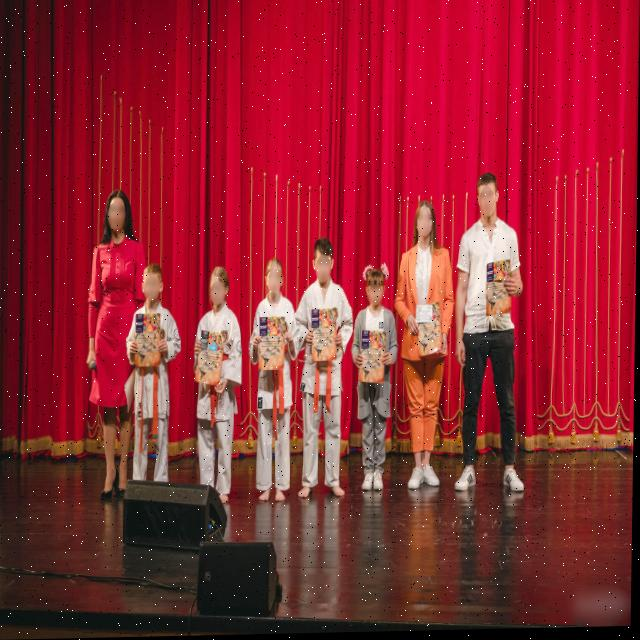Person: (453, 159, 535, 513), (394, 188, 460, 504), (73, 184, 137, 502), (294, 229, 356, 509), (192, 260, 249, 512), (249, 247, 300, 519), (351, 244, 398, 503), (132, 264, 186, 489)
